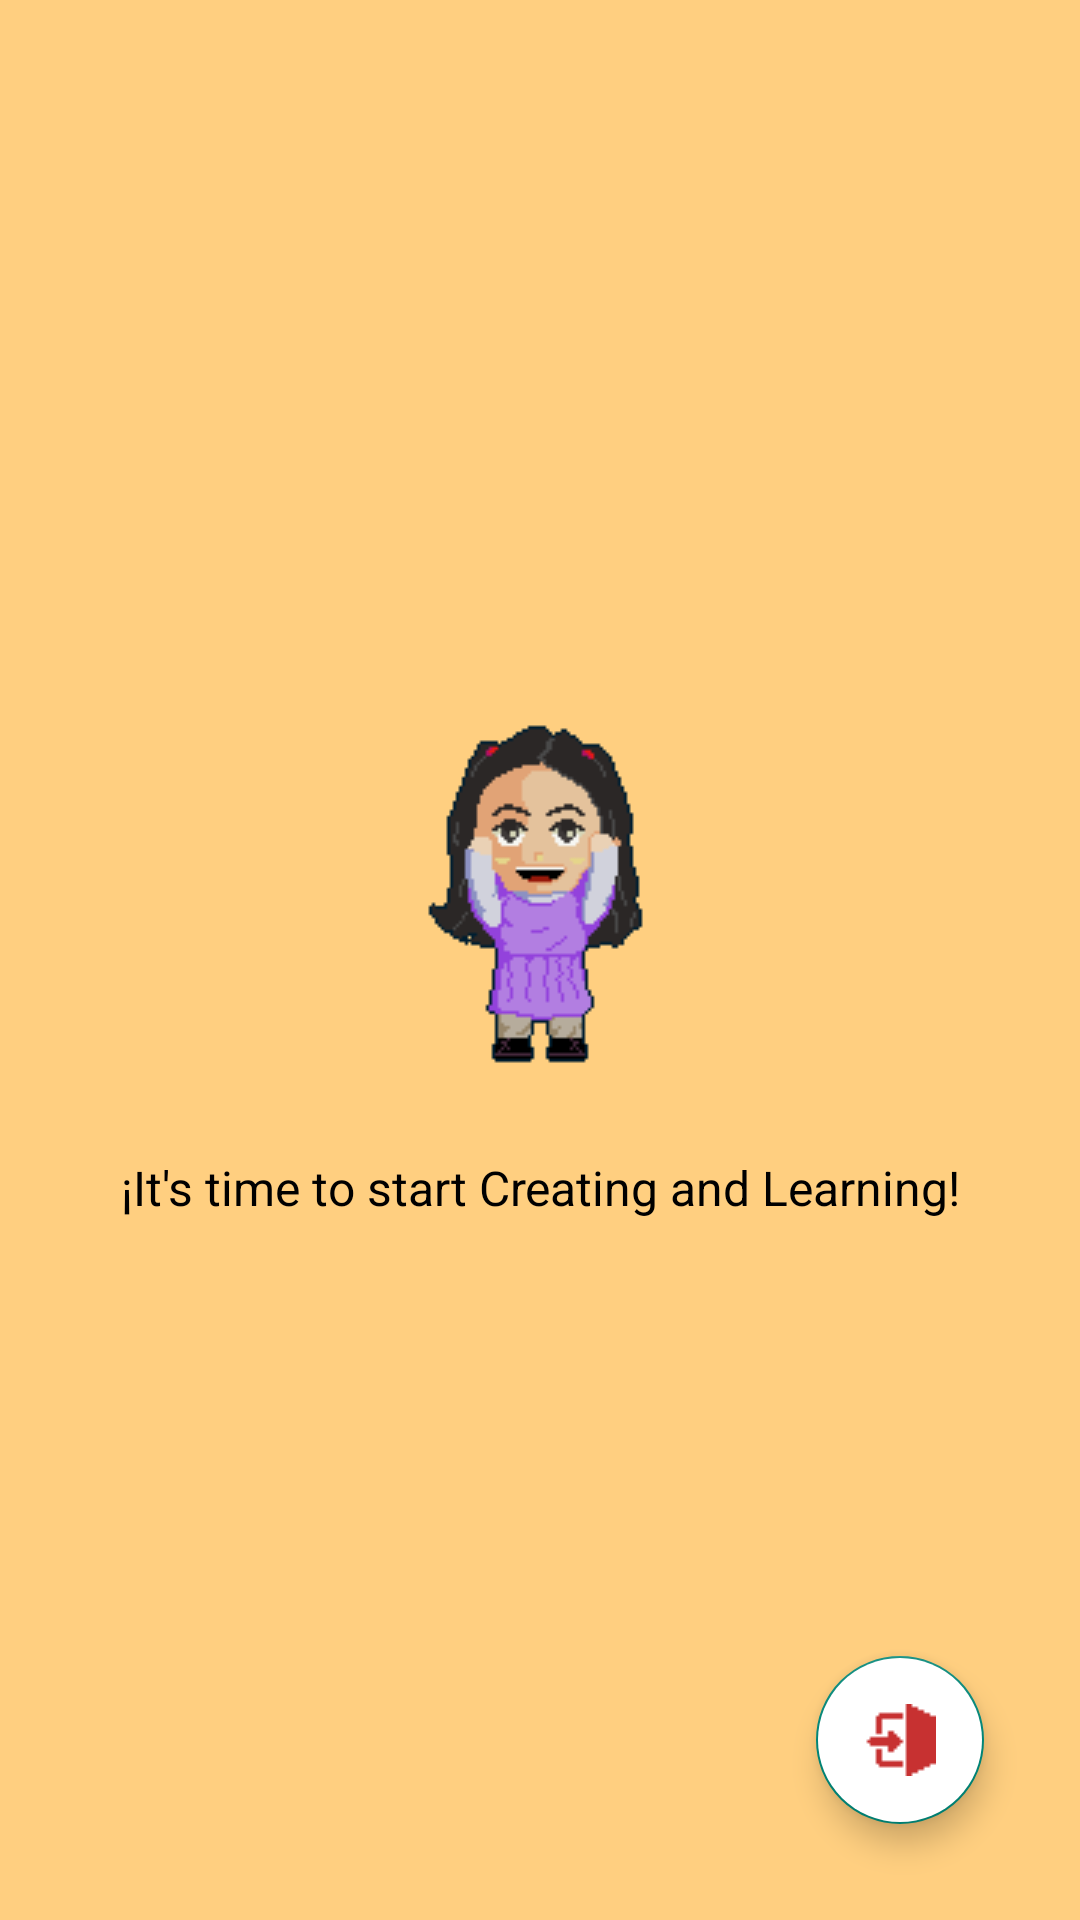

Screen size 1080px x 1920px. Icon name, then its center in pixels as point (x, y):
Exit: point (900, 1740)
